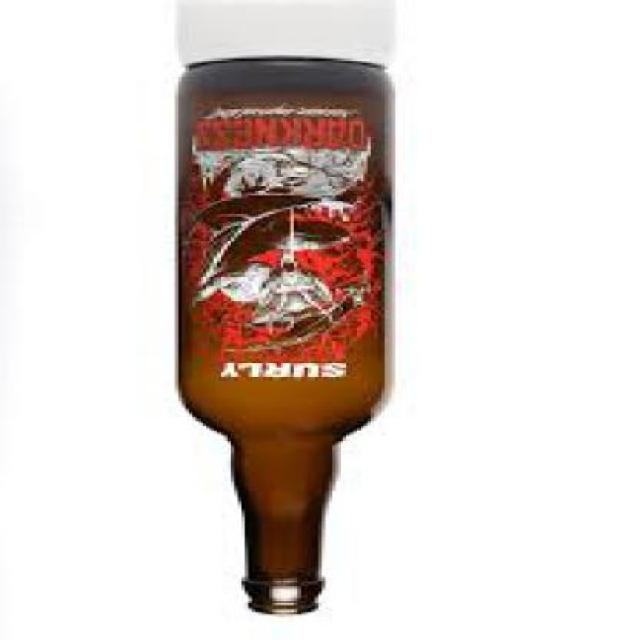GLASS: (182, 58, 398, 617)
